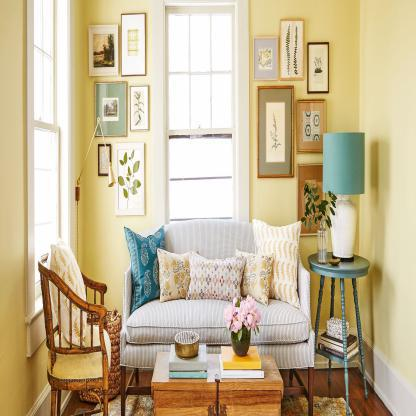bantal: (265, 223, 299, 304), (188, 255, 243, 299), (125, 228, 158, 301), (240, 251, 275, 302), (159, 250, 188, 299)
buku: (217, 344, 266, 380), (167, 342, 209, 380), (320, 332, 360, 361)
kursi: (38, 252, 112, 407)
sova: (117, 224, 318, 406)
tanaman: (321, 131, 366, 258), (225, 300, 258, 347)
